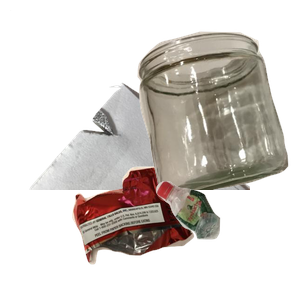glass: (135, 29, 300, 209)
paper: (10, 10, 250, 190)
plastic: (153, 178, 300, 300)
trash: (70, 162, 257, 300)
